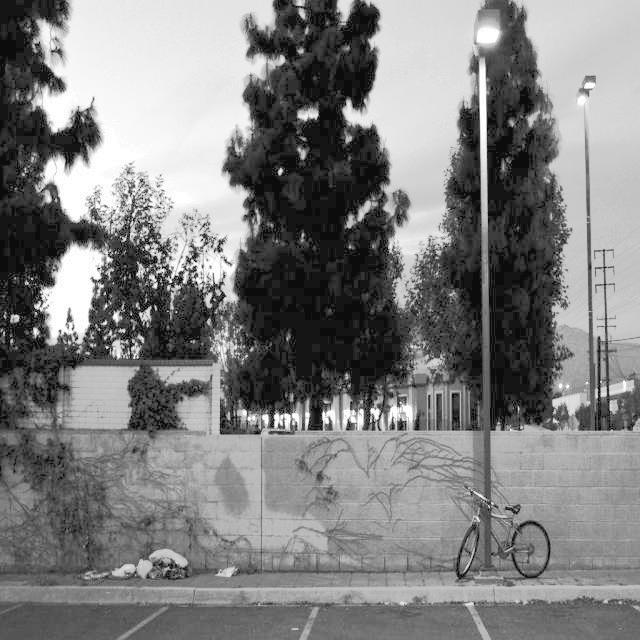Bicycle: (449, 473, 552, 582)
